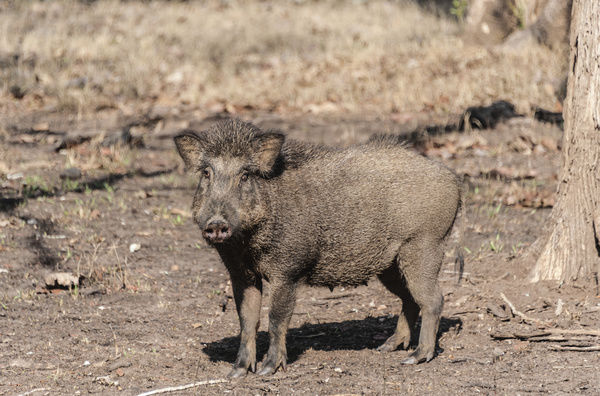wild boar: (168, 114, 466, 383)
